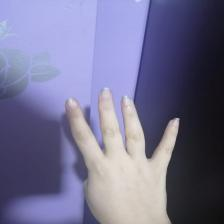four: (58, 86, 181, 206)
